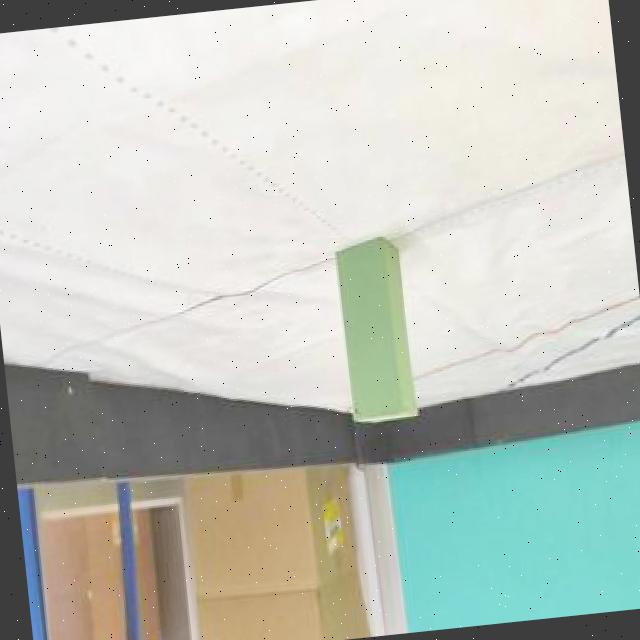greenbox: (330, 230, 416, 424)
